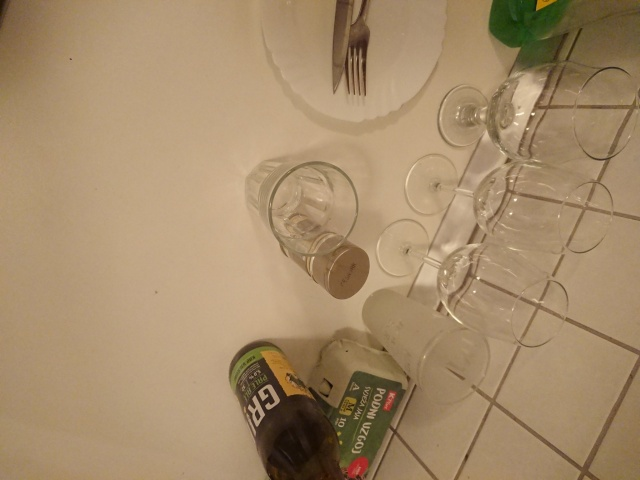Kotanyi Garlic Granules 70g: (278, 210, 372, 301)
